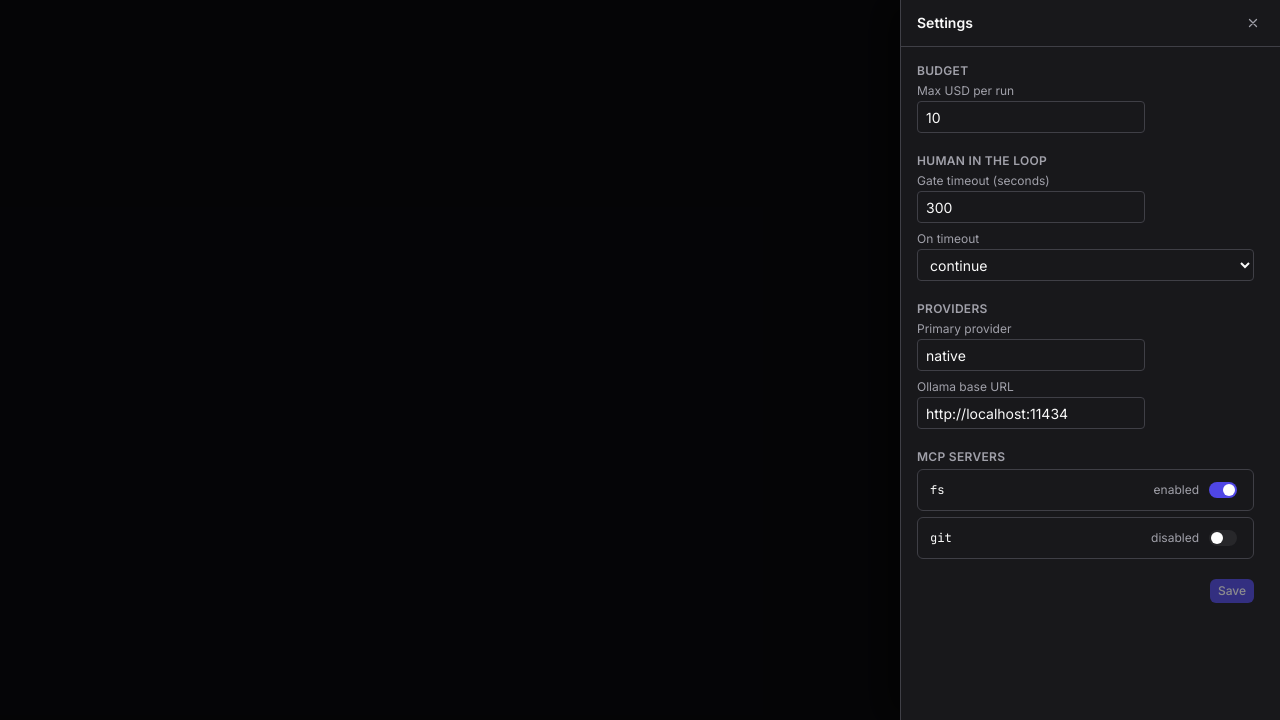
Test: SettingsPanel (Fase D/E9) › shows backend detail on 422 (role=alert) and keeps the form open
The width and height of the screenshot is (1280, 720).
Replace the text in the field named "Budget max USD" with "30" at [1031, 117], box [917,101,1145,133]
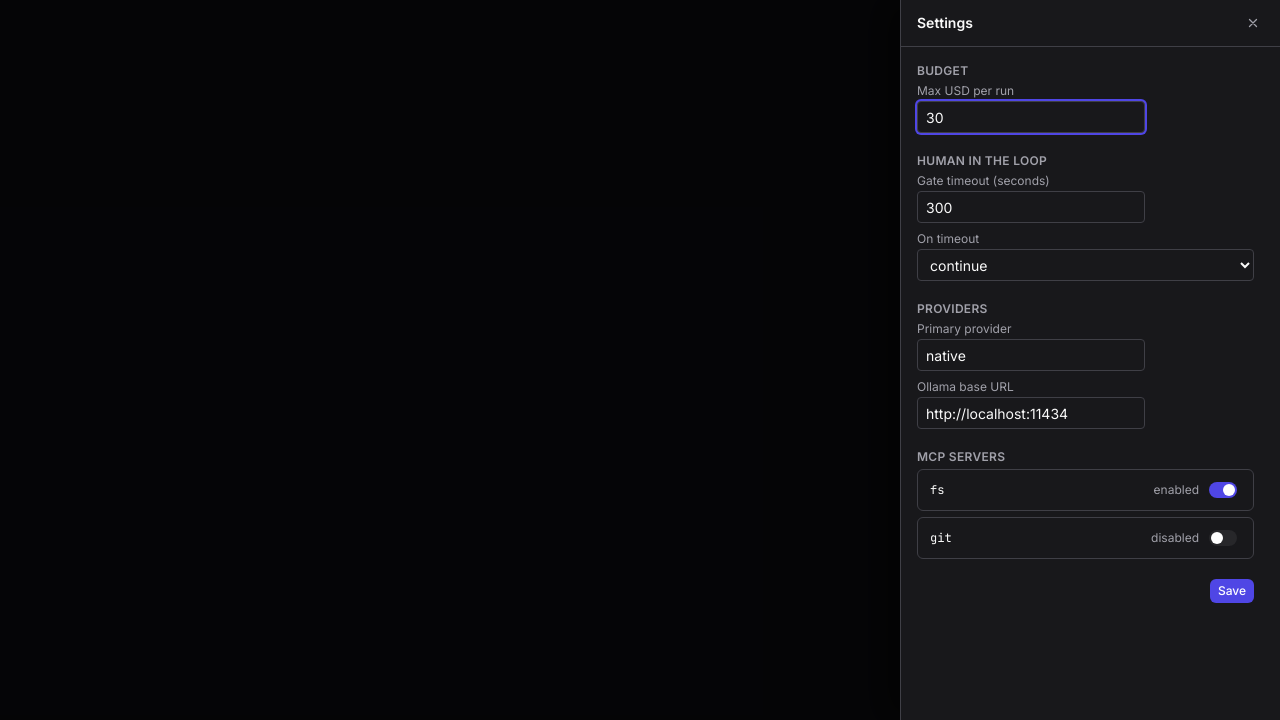
Click the button "Save" at [1232, 591], box [1210,579,1254,603]
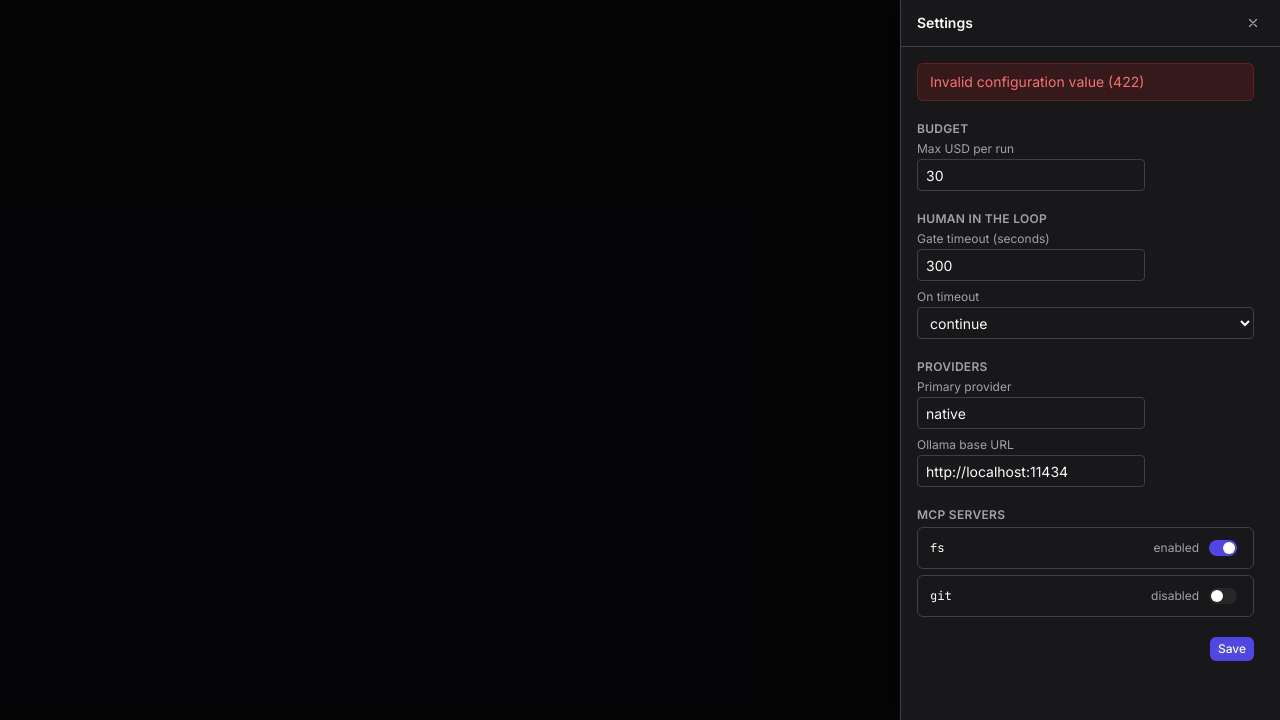
Check: the message reads "Invalid configuration value (422)", box [930,73,1144,90]
